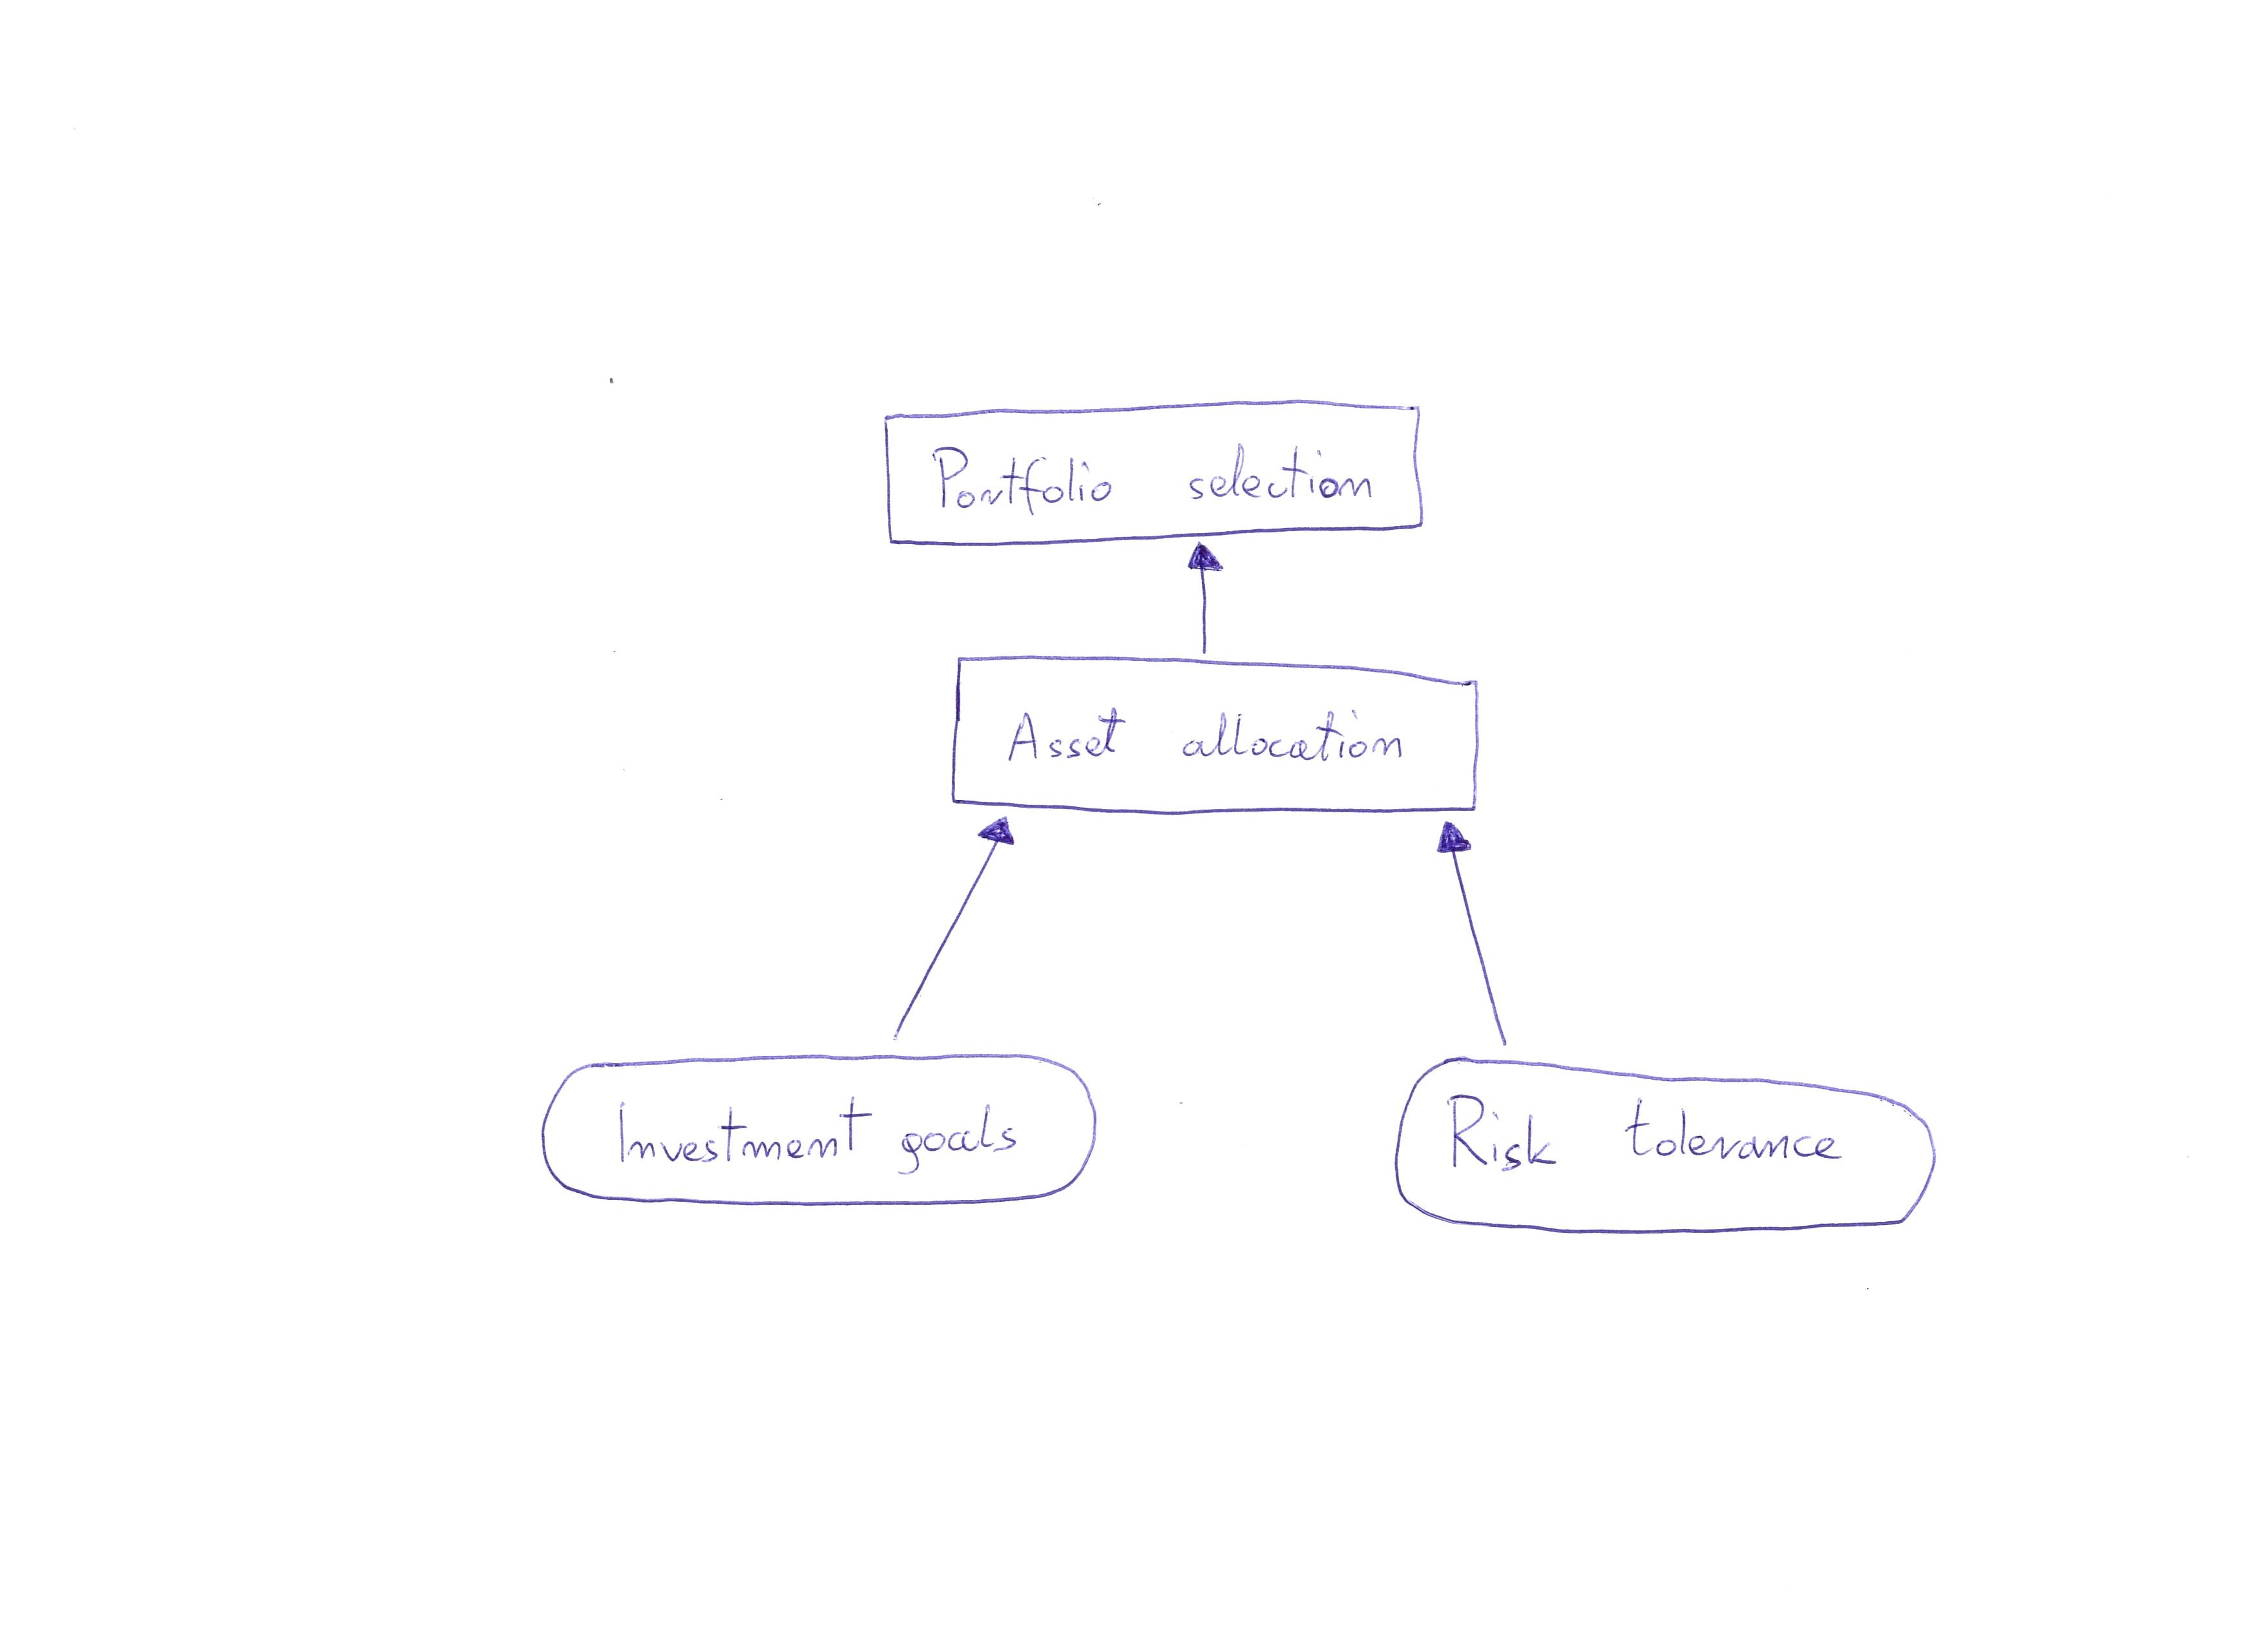arrow_information_requirement: (865, 812, 1032, 1050), (1421, 814, 1548, 1055), (1182, 539, 1229, 657)
node_decision: (942, 650, 1484, 817), (872, 400, 1433, 548)
node_input_data: (1381, 1048, 1967, 1260), (534, 1046, 1115, 1231)
text: (1004, 689, 1423, 786), (924, 435, 1389, 521), (1444, 1091, 1854, 1187), (606, 1096, 1041, 1180)
